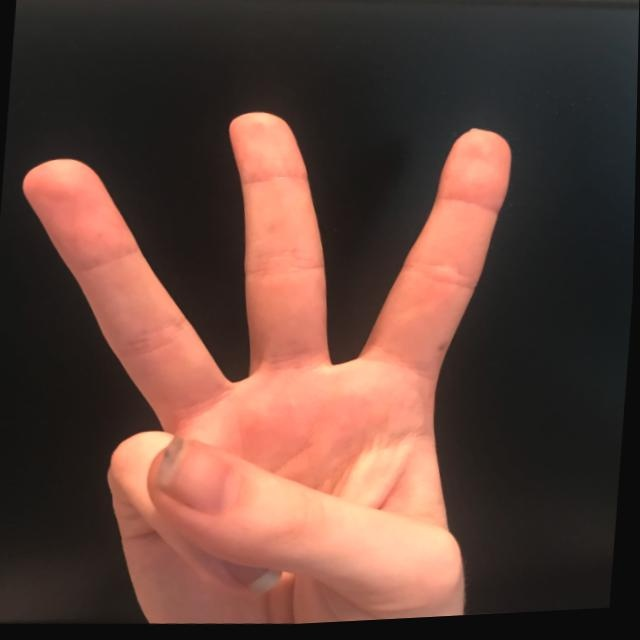W: (0, 86, 527, 639)
